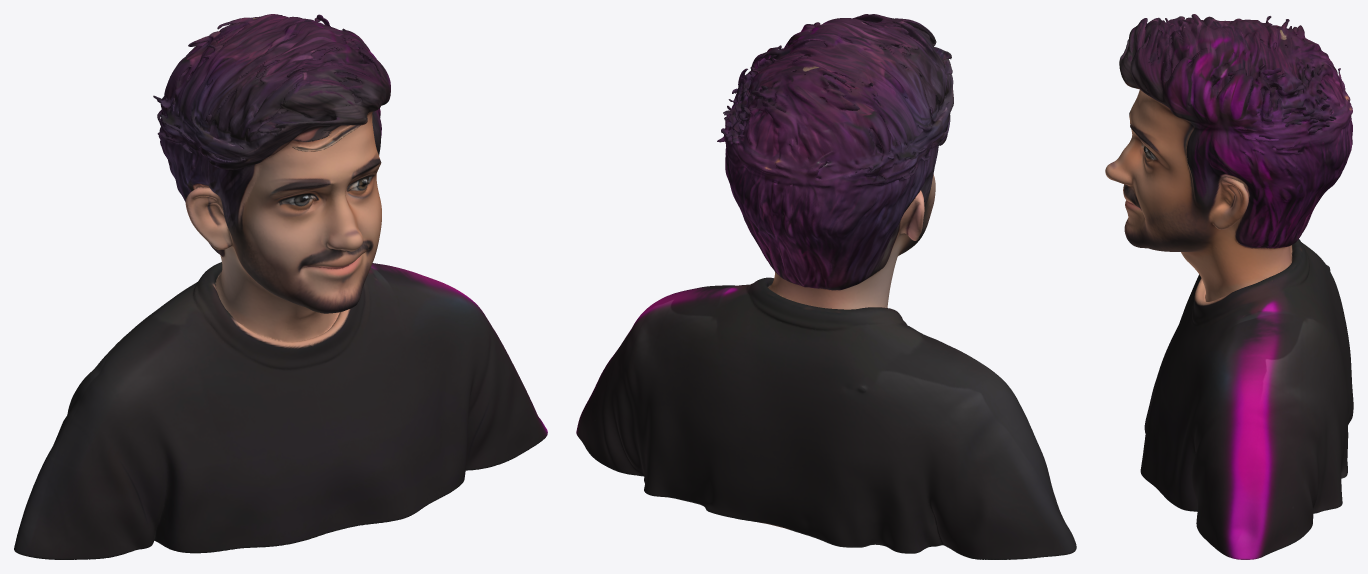
The model's file is nithin-portfolio-avatar-draco.glb.
3 views of the same model, side by side, from view 1: azimuth 30°, elevation 25°; view 2: azimuth 150°, elevation 25°; view 3: azimuth 270°, elevation 25° (orthographic). The views are drawn at different scales.
Visible parts, largest first — view 1: tripo_node_0720f1d1-9236-4bc9-95f3-24f83bbeac65; view 2: tripo_node_0720f1d1-9236-4bc9-95f3-24f83bbeac65; view 3: tripo_node_0720f1d1-9236-4bc9-95f3-24f83bbeac65.
Part boxes in pixels (x1=…): tripo_node_0720f1d1-9236-4bc9-95f3-24f83bbeac65: x1=14, y1=14, x2=547, y2=559; tripo_node_0720f1d1-9236-4bc9-95f3-24f83bbeac65: x1=576, y1=14, x2=1076, y2=559; tripo_node_0720f1d1-9236-4bc9-95f3-24f83bbeac65: x1=1105, y1=14, x2=1353, y2=559.
Size of the model in its own units: 1.5 by 1.29 by 0.6877.
1 material, 1 textured.
